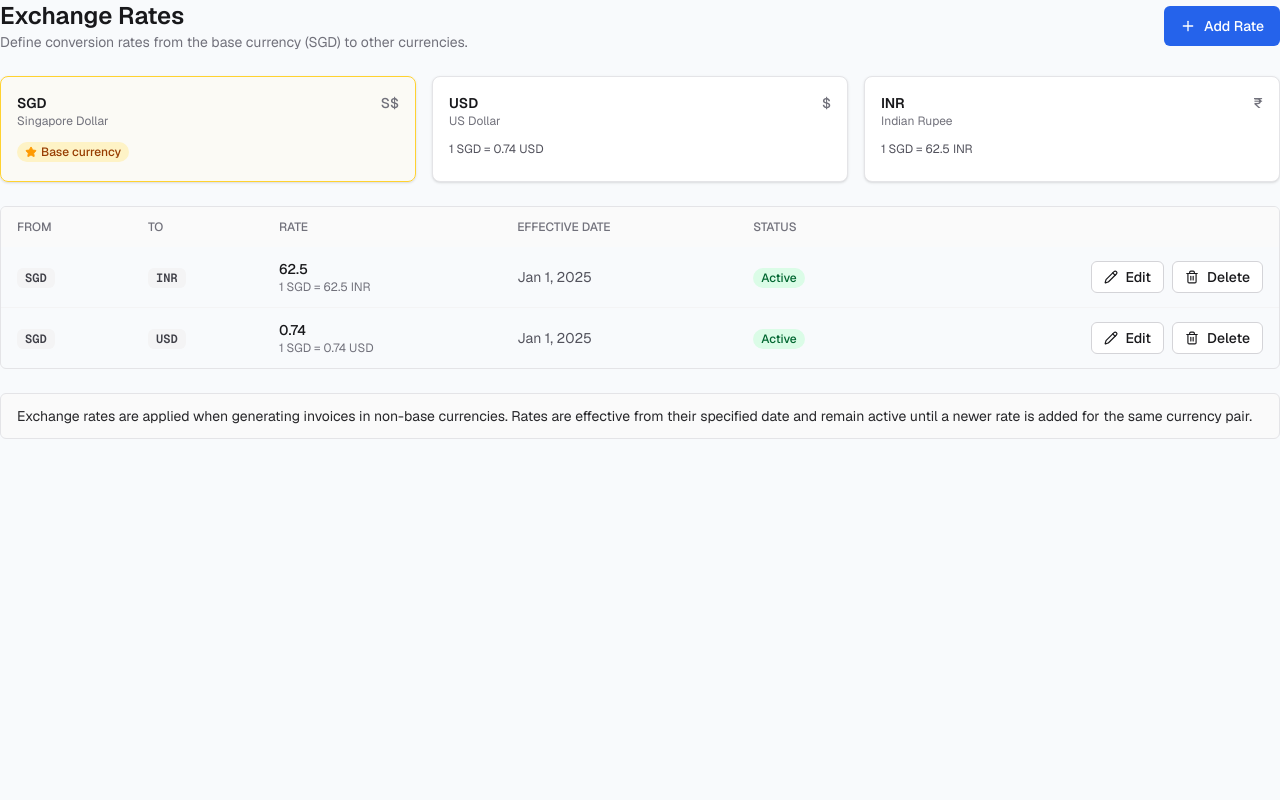
ExchangeRatesTable › opens the Edit modal pre-filled for the clicked row
This screenshot has width=1280, height=800.
Expected: the text "Base currency" is shown, [17,142,129,162]
Click the 2nd button "Edit" at (1127, 338), box [1091,322,1164,354]
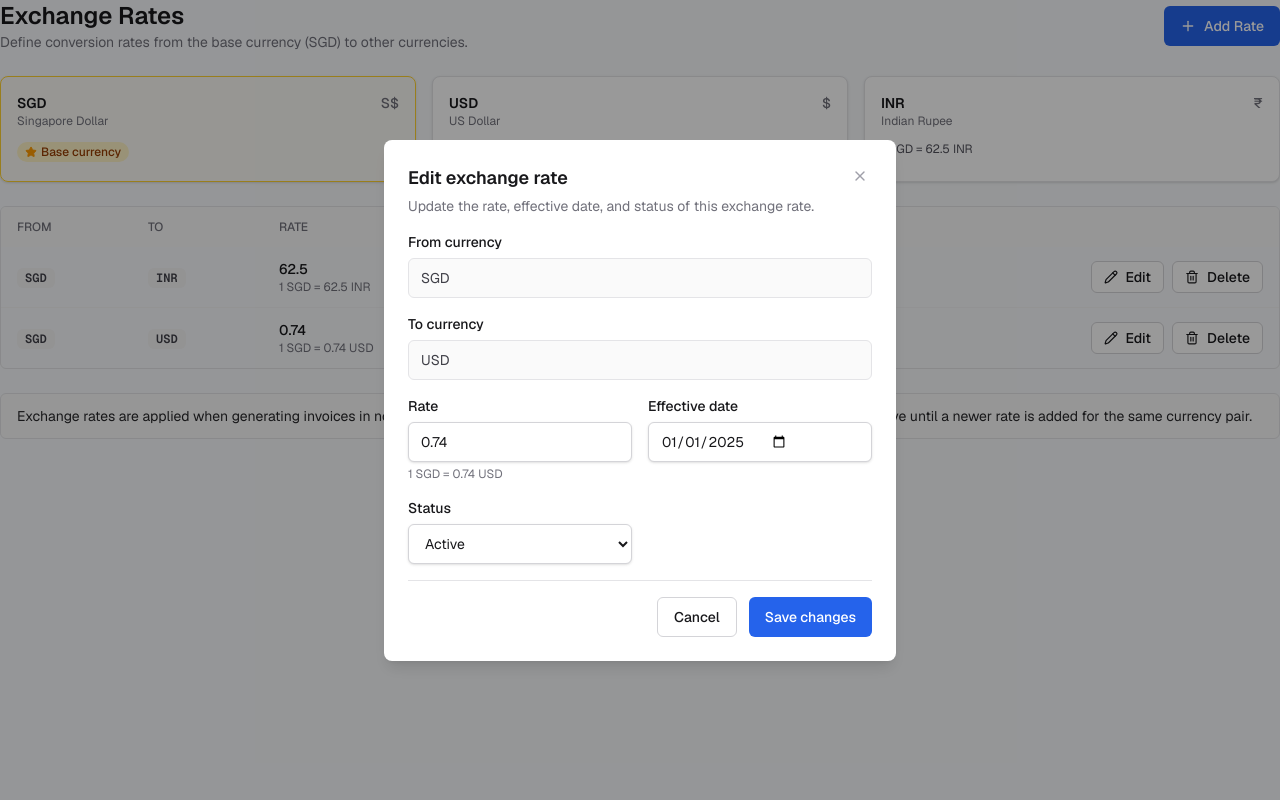
Now the heading "Edit exchange rate" is shown, box [408,166,568,188]
Now the number field labelled "Rate" holds "0.74", box [408,422,632,462]
